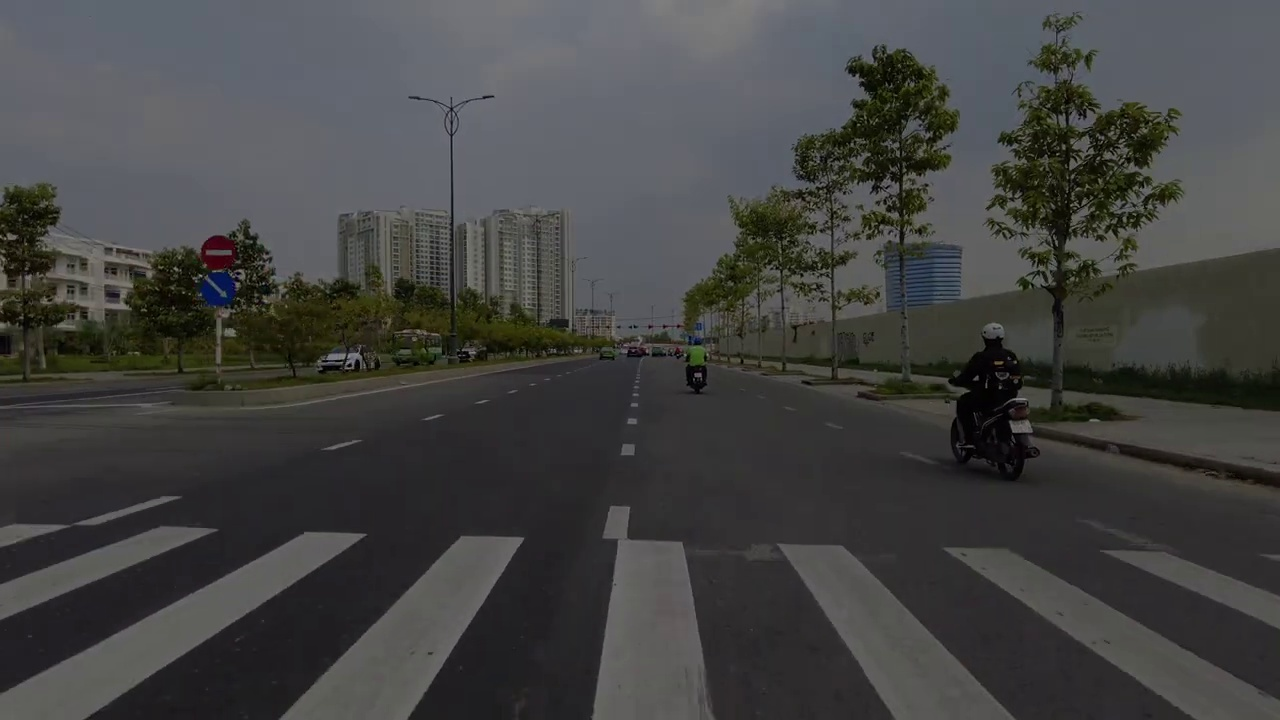cam_nguoc_chieu: (201, 235, 235, 270)
huong_phai_di_vong: (201, 272, 235, 306)
